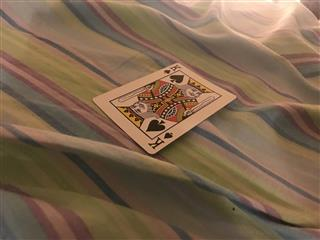KingOfSpades: (91, 61, 236, 154)
